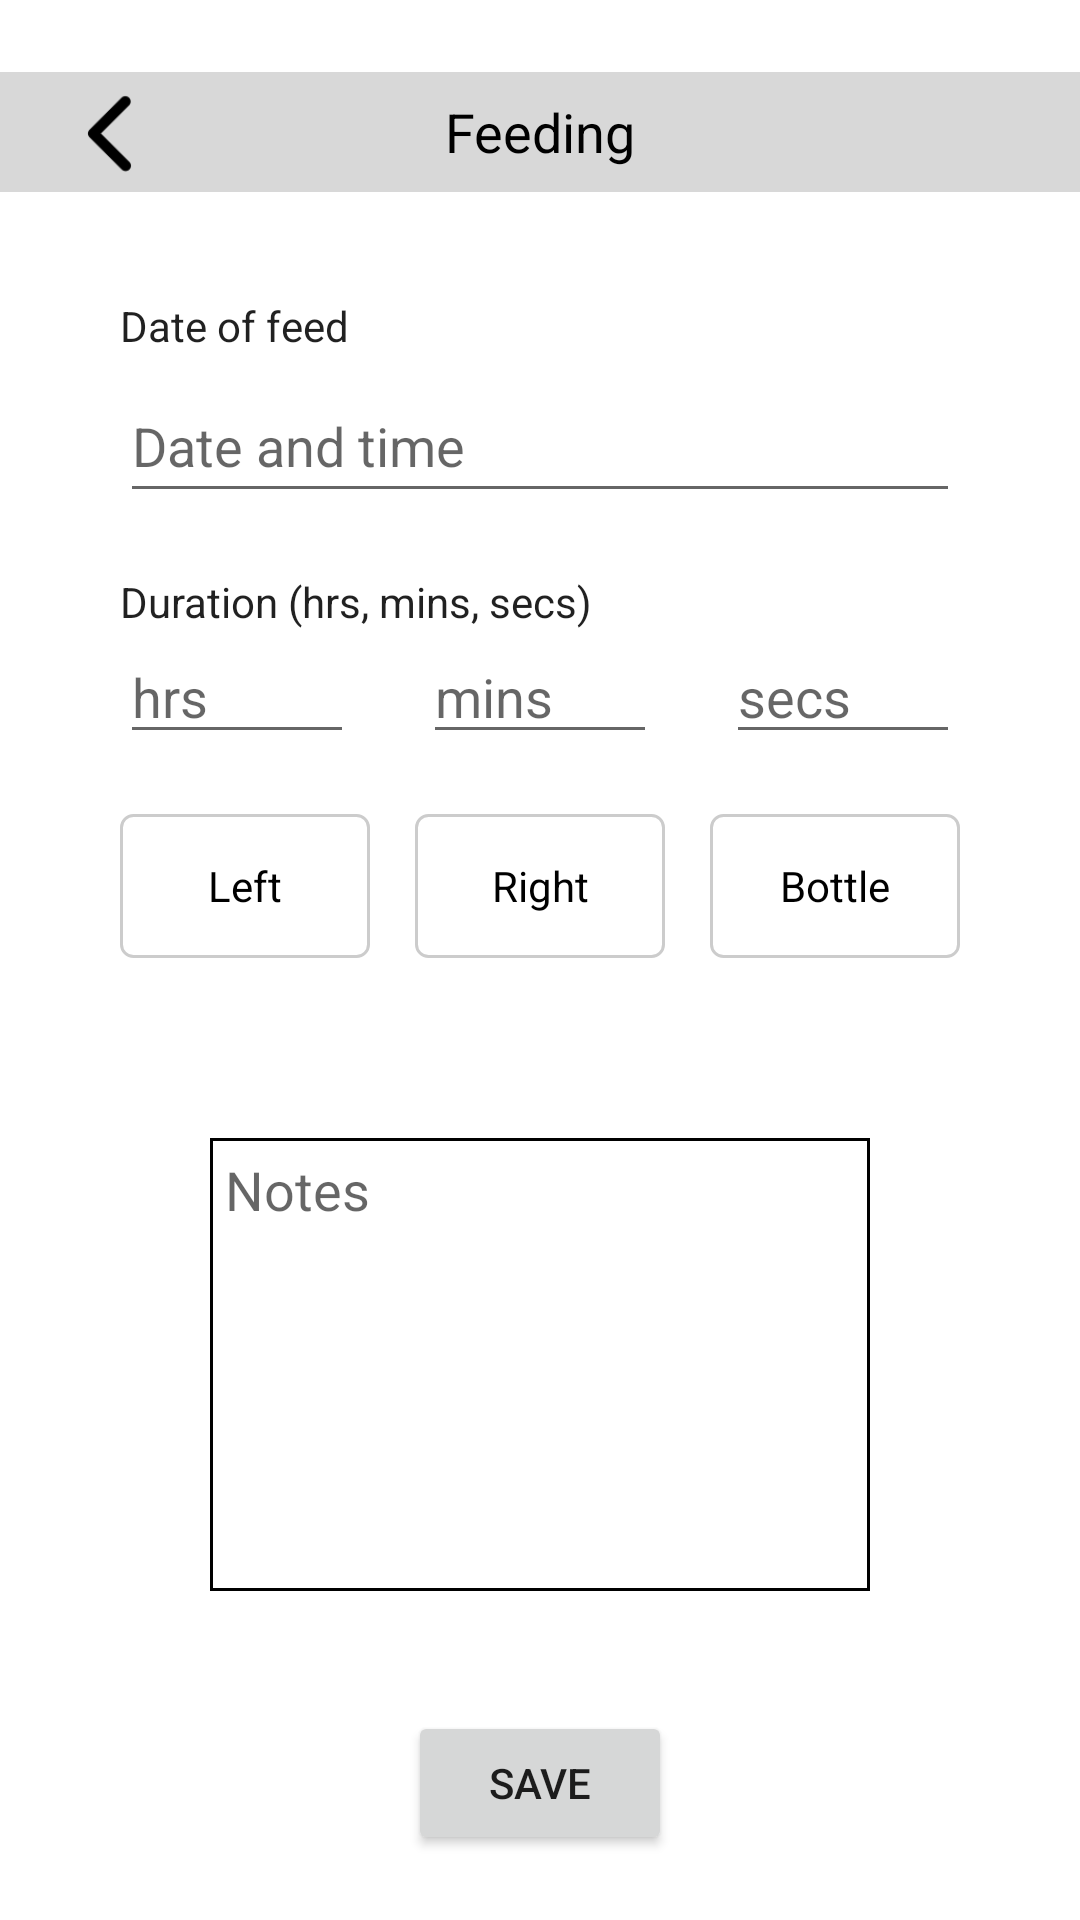

Where icons sit on this 1080x1920 app screen, as detection(x1, y1, x2, y2):
left: detection(30, 72, 189, 192)
